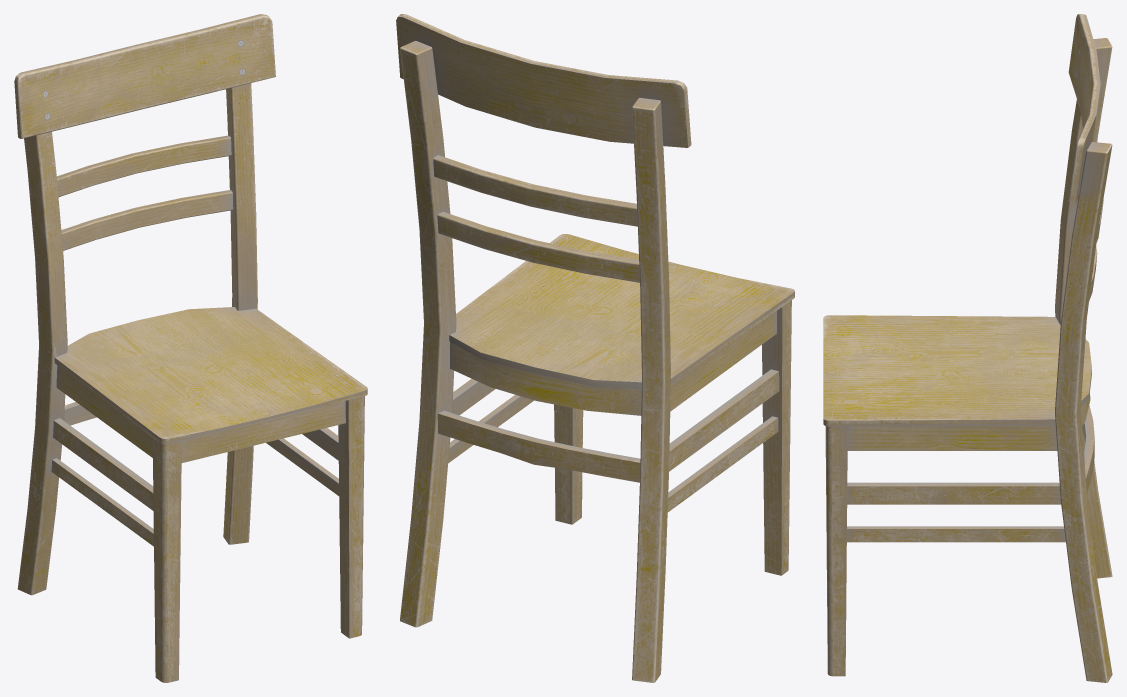
The model's file is asset.glb.
The picture shows the model from 3 angles, left to right: view 1: azimuth 30°, elevation 25°; view 2: azimuth 150°, elevation 25°; view 3: azimuth 270°, elevation 25°; orthographic projection. The views are drawn at different scales.
Parts seen in each view (by area): view 1: defaultMaterial_Mat_0; view 2: defaultMaterial_Mat_0; view 3: defaultMaterial_Mat_0.
Boxes of the visible parts, <box> form: defaultMaterial_Mat_0: <box>14,14,367,682</box>; defaultMaterial_Mat_0: <box>396,14,794,682</box>; defaultMaterial_Mat_0: <box>823,14,1112,682</box>.
Size of the model in its own units: 16.29 by 32.09 by 15.31.
1 material, 1 textured.
